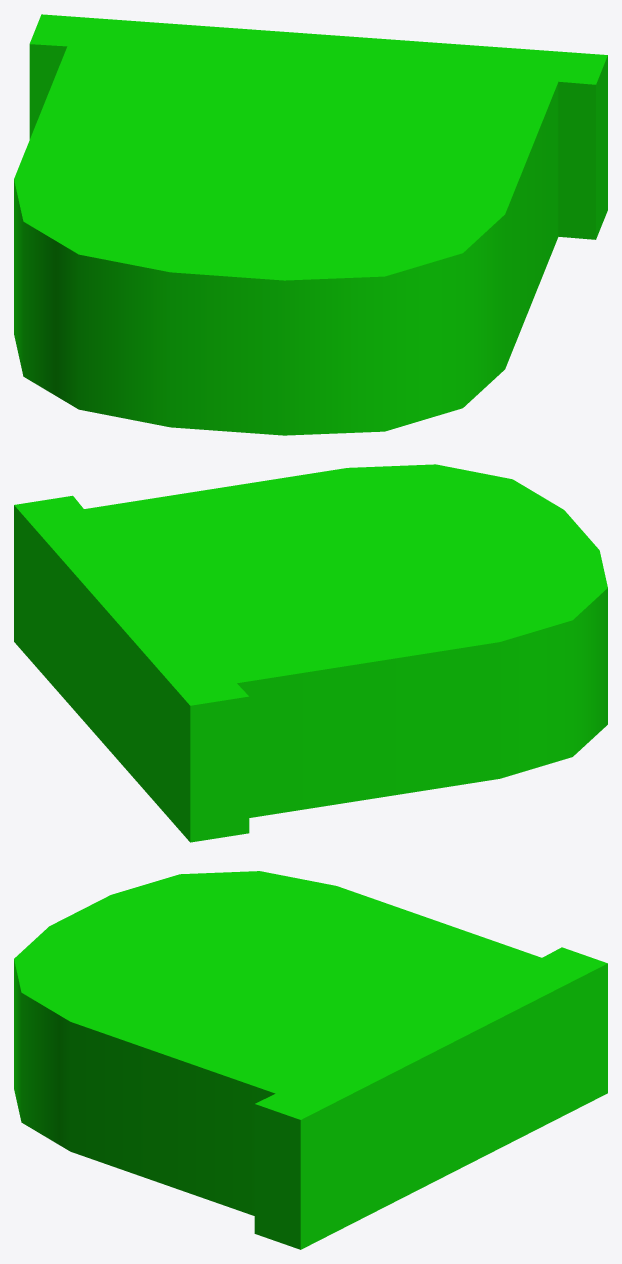
The model's file is sm_castle_042.fbx.
3 renders of one model, top to bottom at view 1: azimuth 30°, elevation 25°; view 2: azimuth 150°, elevation 25°; view 3: azimuth 270°, elevation 25°, orthographic. The views are drawn at different scales.
Visible parts, largest first — view 1: sm_castle.042; view 2: sm_castle.042; view 3: sm_castle.042.
Part boxes in pixels (x1,y1,x2,y2): sm_castle.042: (14, 14, 607, 435); sm_castle.042: (14, 464, 607, 842); sm_castle.042: (14, 871, 607, 1249).
Bounding box in the file's own units: 1105 × 269 × 1114.
